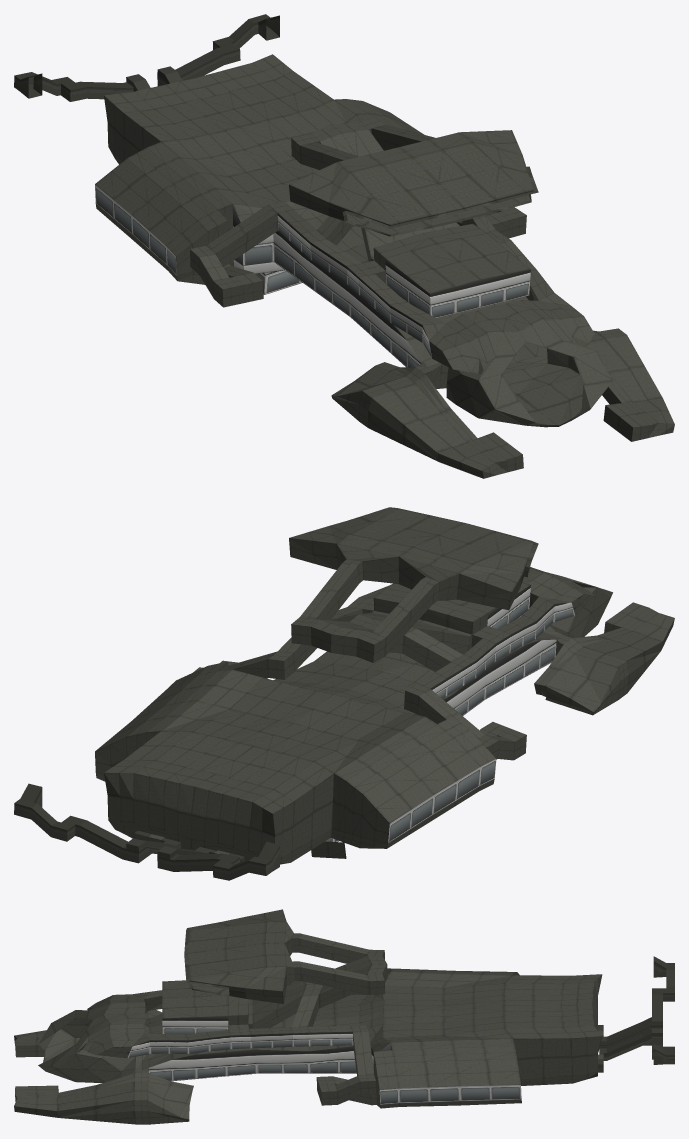
File: the_fearless_inside_physics.DAE
3 renders of one model, top to bottom at view 1: azimuth 30°, elevation 25°; view 2: azimuth 150°, elevation 25°; view 3: azimuth 270°, elevation 25°, orthographic. The views are drawn at different scales.
Visible parts, largest first — view 1: InsideHull005, InsideHull03; view 2: InsideHull005, InsideHull03; view 3: InsideHull03, InsideHull005.
Part boxes in pixels (x1=…): InsideHull005: x1=14, y1=72, x2=559, y2=478; InsideHull03: x1=157, y1=14, x2=674, y2=441; InsideHull005: x1=157, y1=523, x2=674, y2=880; InsideHull03: x1=14, y1=507, x2=465, y2=863; InsideHull03: x1=14, y1=943, x2=674, y2=1124; InsideHull005: x1=14, y1=909, x2=674, y2=1062.
Bounding box in the file's own units: 153 × 84.24 × 363.
